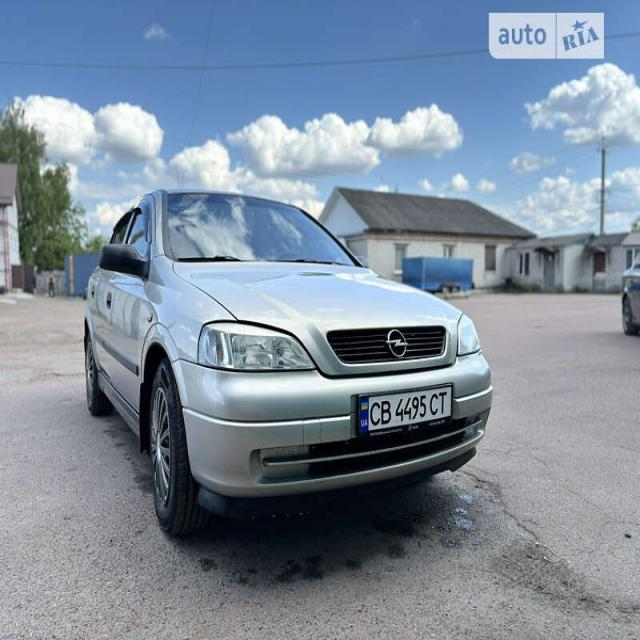plate: (350, 381, 456, 439)
